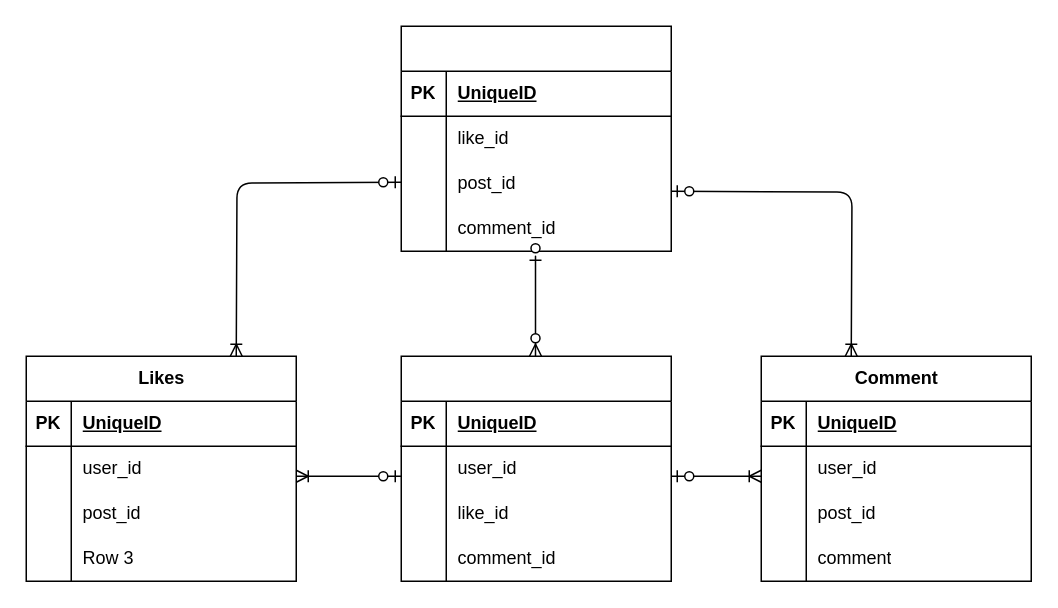
The diagram is 1058 pixels wide and 608 high, and some of its shapes have lost their labels. Each missing label, with the box of its shape:
Posts: (400, 355, 671, 581)
Users: (400, 25, 671, 251)
